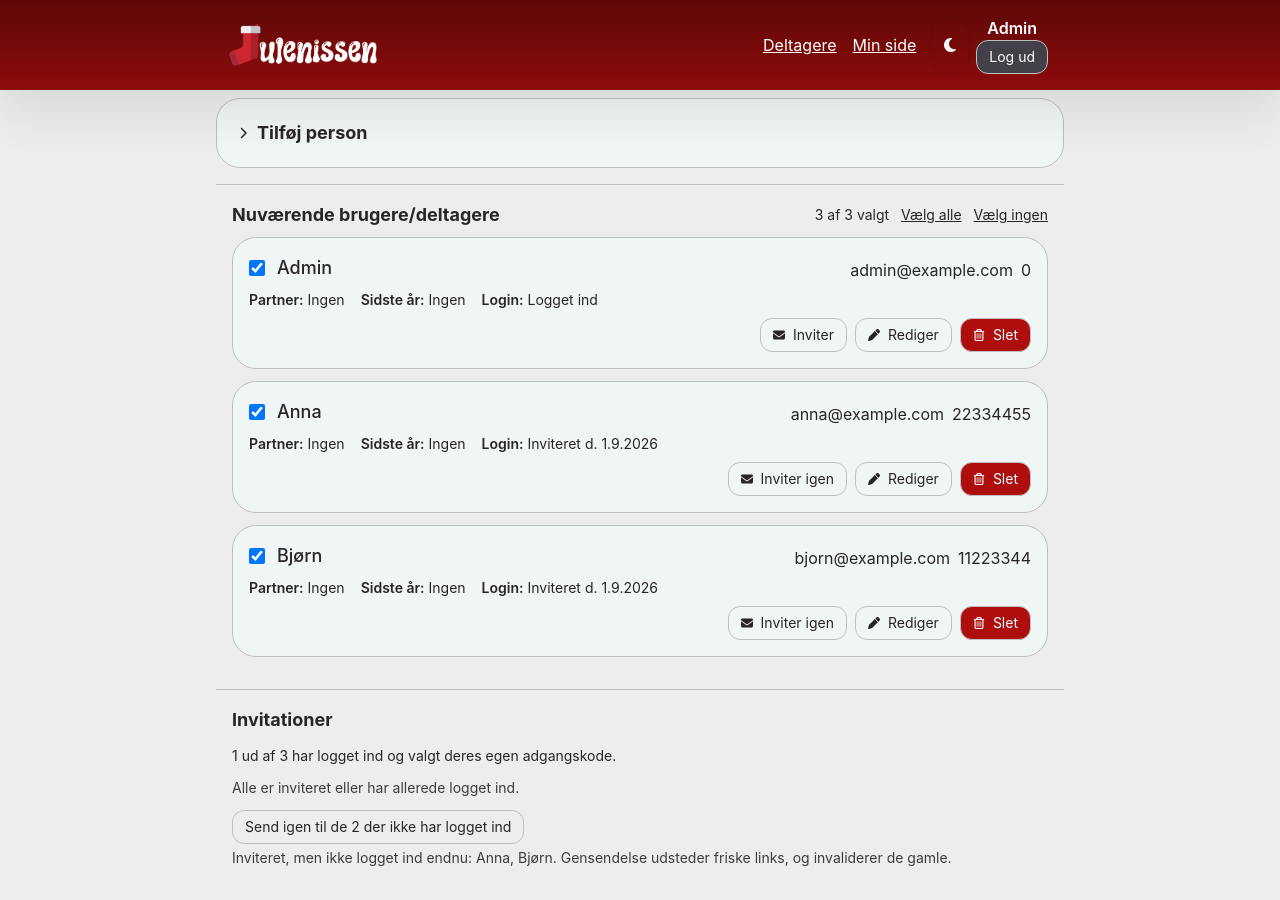
Test: inviting people from the admin page › re-sends to those invited who still haven't logged in
The width and height of the screenshot is (1280, 900).
Step 1. Click the button "Send igen til de 2 der ikke har logget ind" → (378,827), box [232, 810, 524, 844]
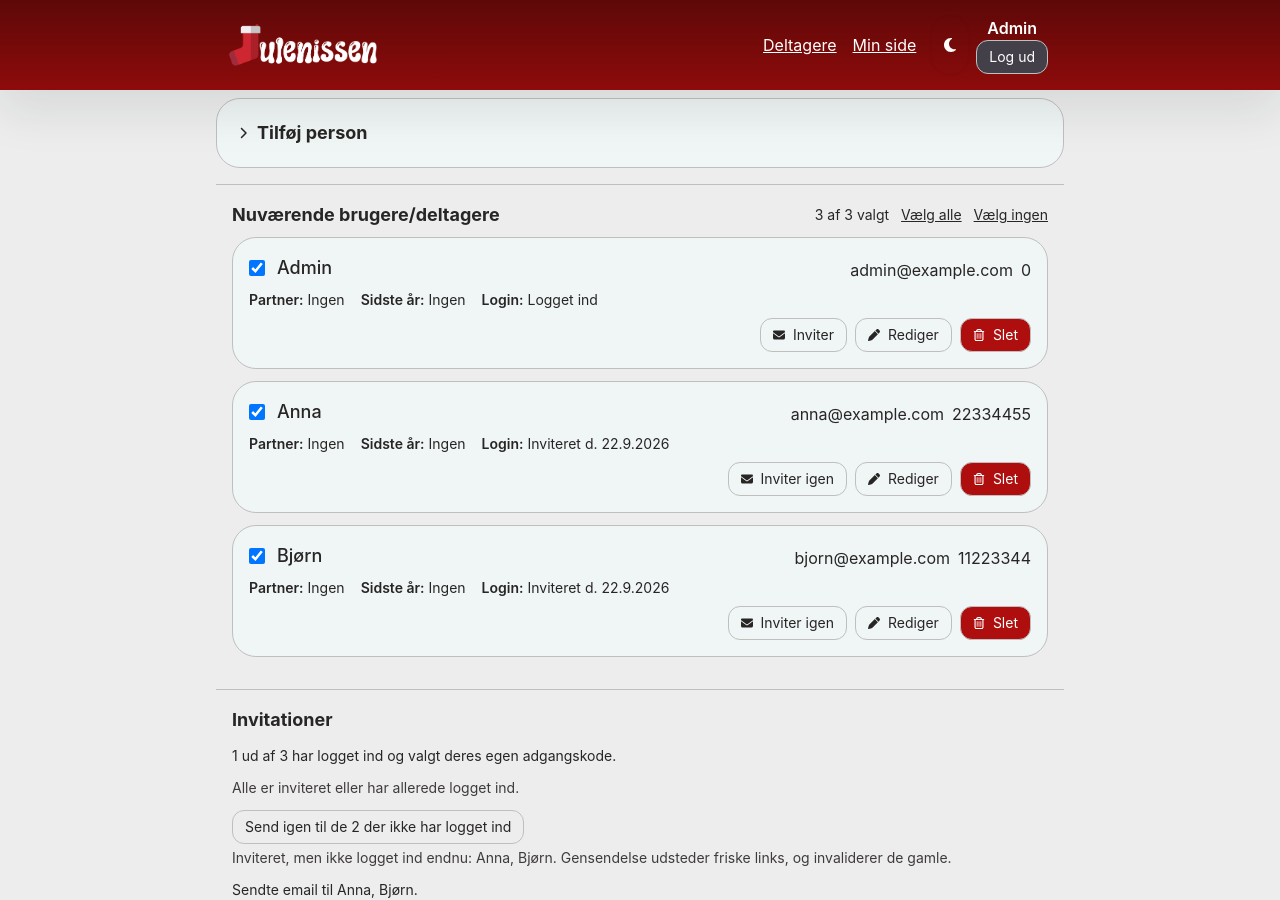
Expected: the text "Sendte email til Anna, Bjørn." is shown, [232, 881, 418, 898]
